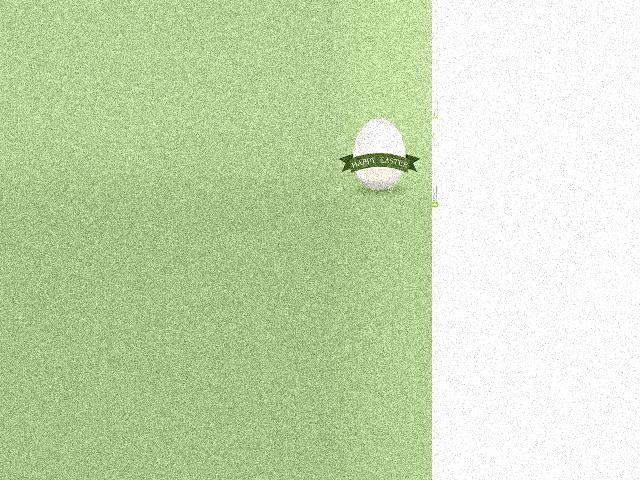egg: (354, 118, 406, 190)
